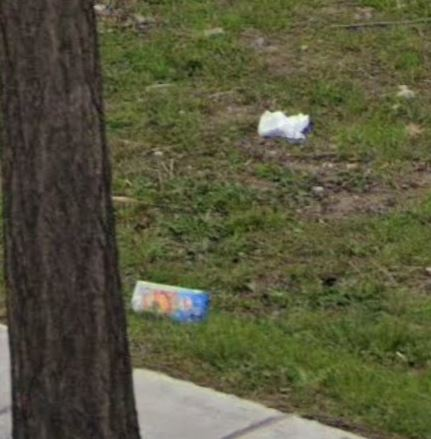trash: (130, 278, 212, 328), (243, 105, 326, 141)
